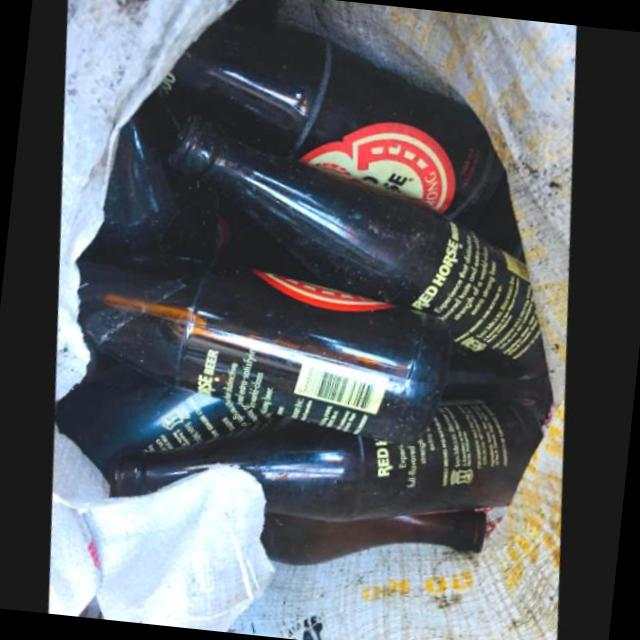chai_thuy_tinh: (171, 118, 550, 373), (77, 257, 458, 441), (157, 23, 510, 219), (116, 390, 551, 519)
